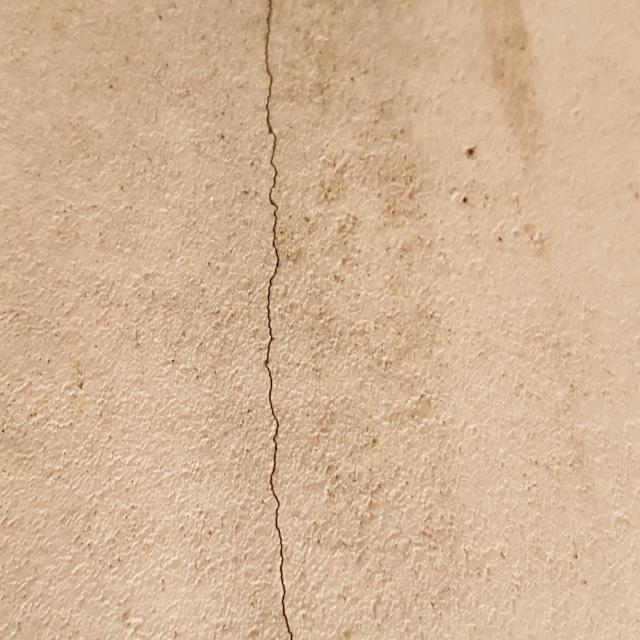SurfaceCrack: (214, 1, 341, 640)
